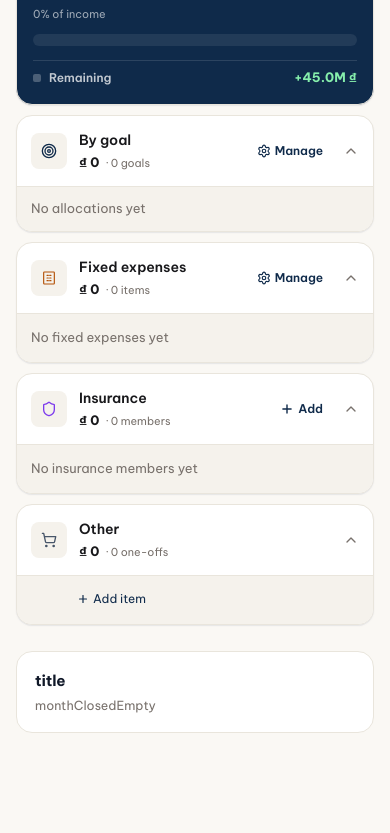
Test case: MobilePlanningView — iOS zoom guard (issue #265) › renders the other-expense form inputs at >=16px
The image size is (390, 833).
(page scrolled)
Step 1. Click the button "Add item" → x=112, y=599, box [77, 586, 146, 612]
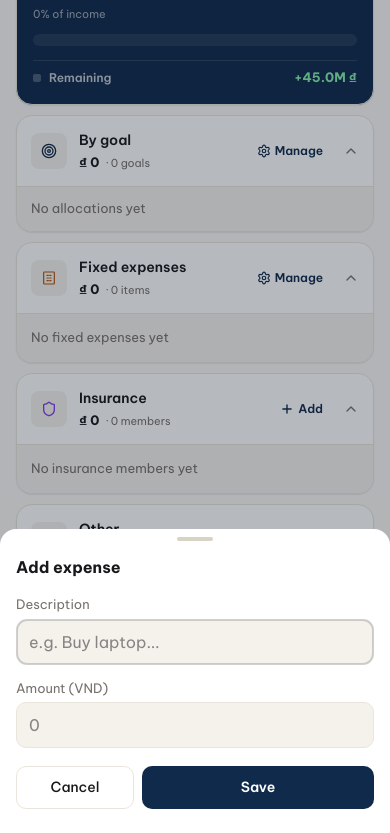
expect the field with placeholder "e.g. Buy laptop..." is shown: met, box [16, 618, 374, 664]
